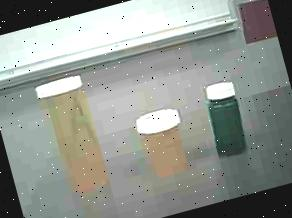Bottle A: (30, 66, 126, 202)
Bottle B: (130, 98, 203, 190)
Bottle C: (198, 74, 258, 171)
